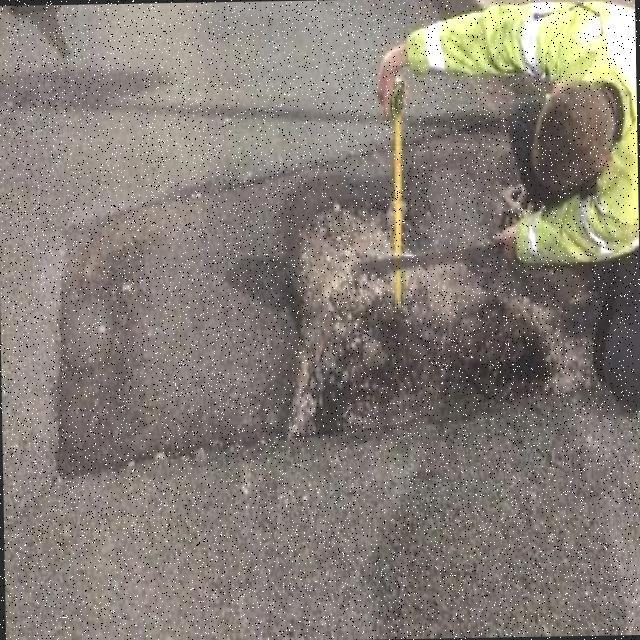Pothole: (272, 206, 550, 436)
